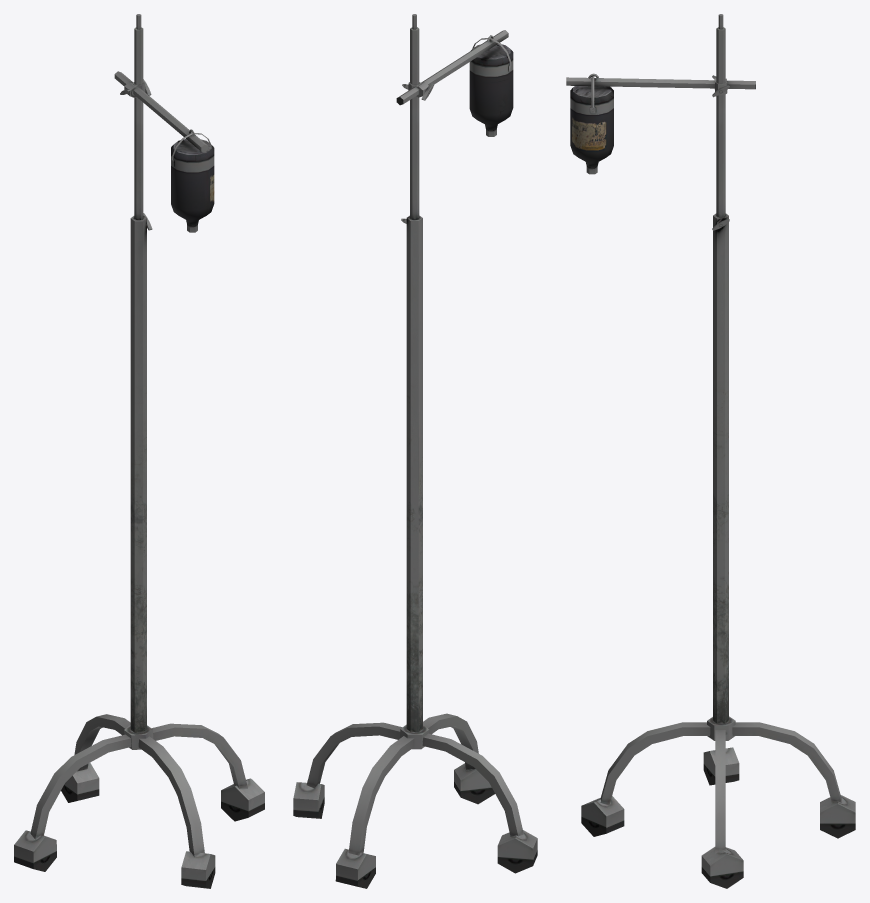
File: Drip.fbx
3 views of the same model, side by side, from view 1: azimuth 30°, elevation 25°; view 2: azimuth 150°, elevation 25°; view 3: azimuth 270°, elevation 25° (orthographic).
Parts seen in each view (by area): view 1: Drip; view 2: Drip; view 3: Drip.
Part boxes in pixels (x1=…): Drip: x1=14, y1=14, x2=264, y2=888; Drip: x1=293, y1=14, x2=537, y2=888; Drip: x1=566, y1=14, x2=855, y2=888.
Bounding box in the file's own units: 51.4 × 168 × 53.86.
Materials: 1 (1 with a texture image).
